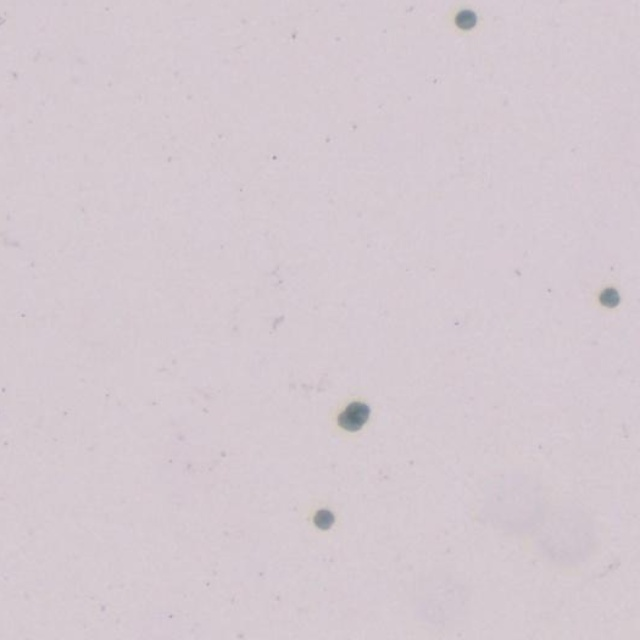non_viable: (338, 401, 368, 430), (313, 508, 334, 529), (455, 9, 477, 29), (599, 288, 619, 307)
